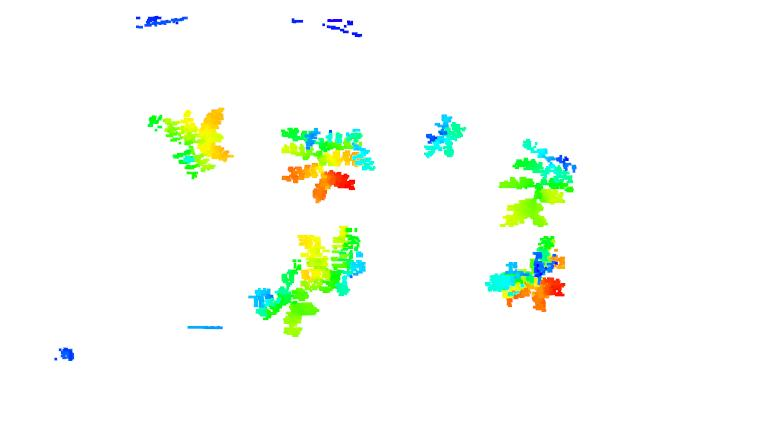chickpea: (275, 123, 378, 203), (498, 134, 578, 231), (480, 238, 577, 313), (147, 106, 235, 177), (295, 226, 371, 296), (252, 265, 323, 336), (421, 114, 468, 156)
